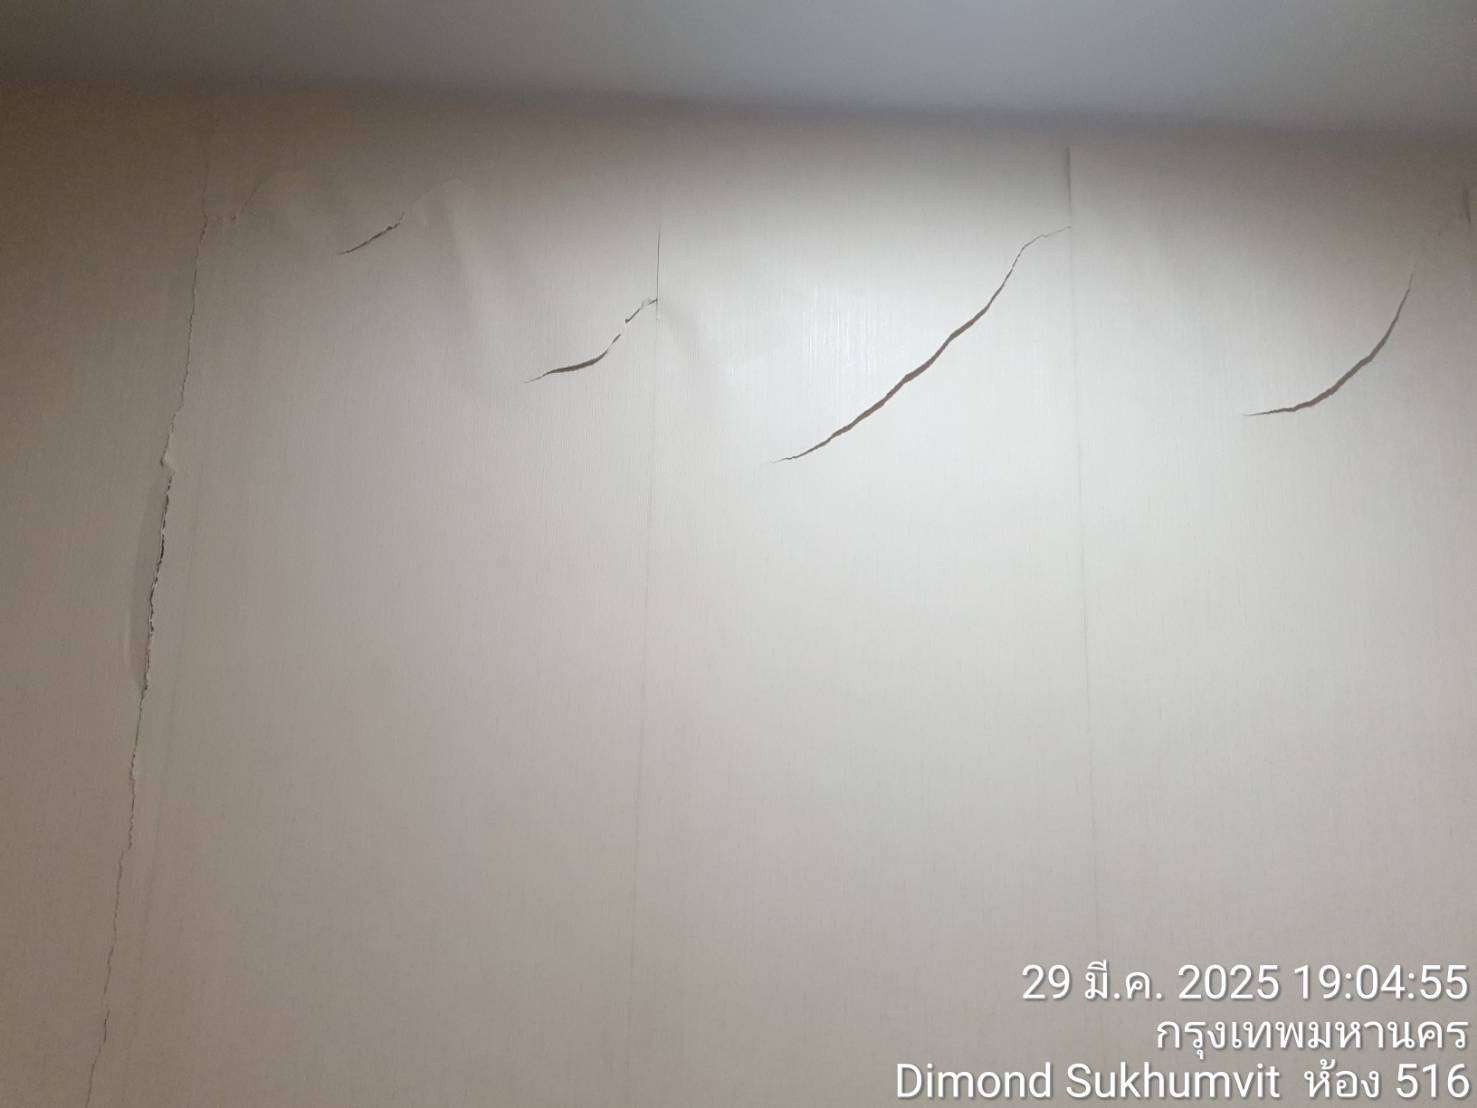Medium: (85, 429, 212, 966)
